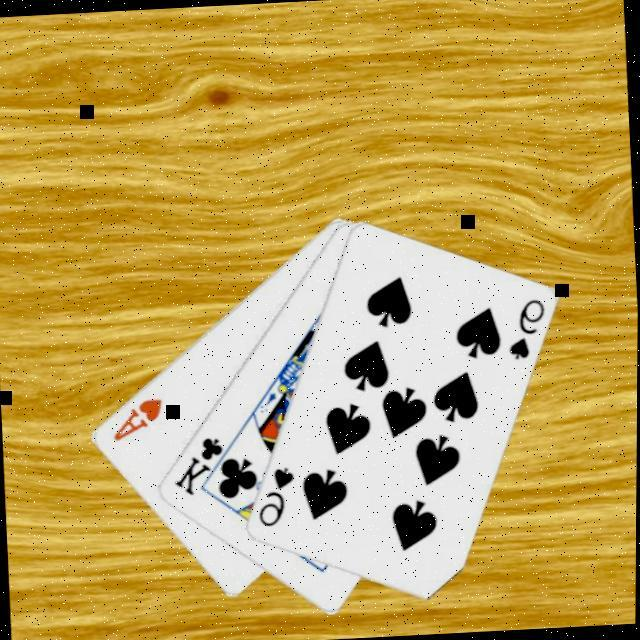9S: (502, 294, 549, 362), (252, 461, 298, 529)
AH: (107, 392, 167, 442)
KC: (168, 430, 239, 498)
